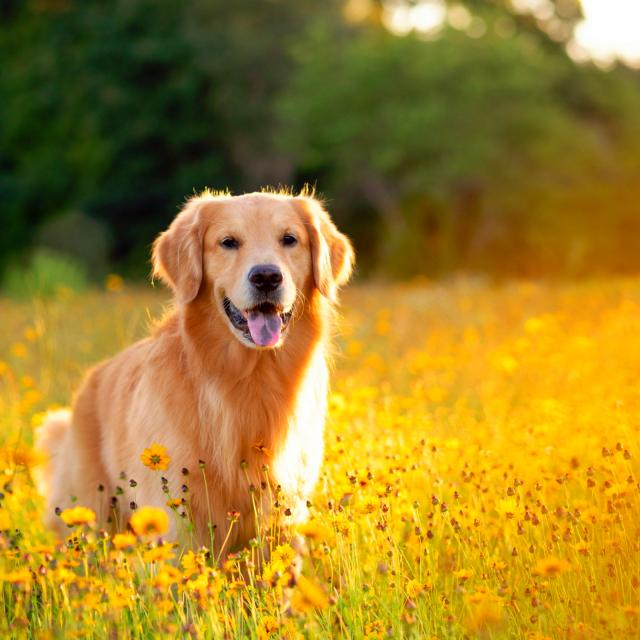dog: (35, 192, 354, 559)
